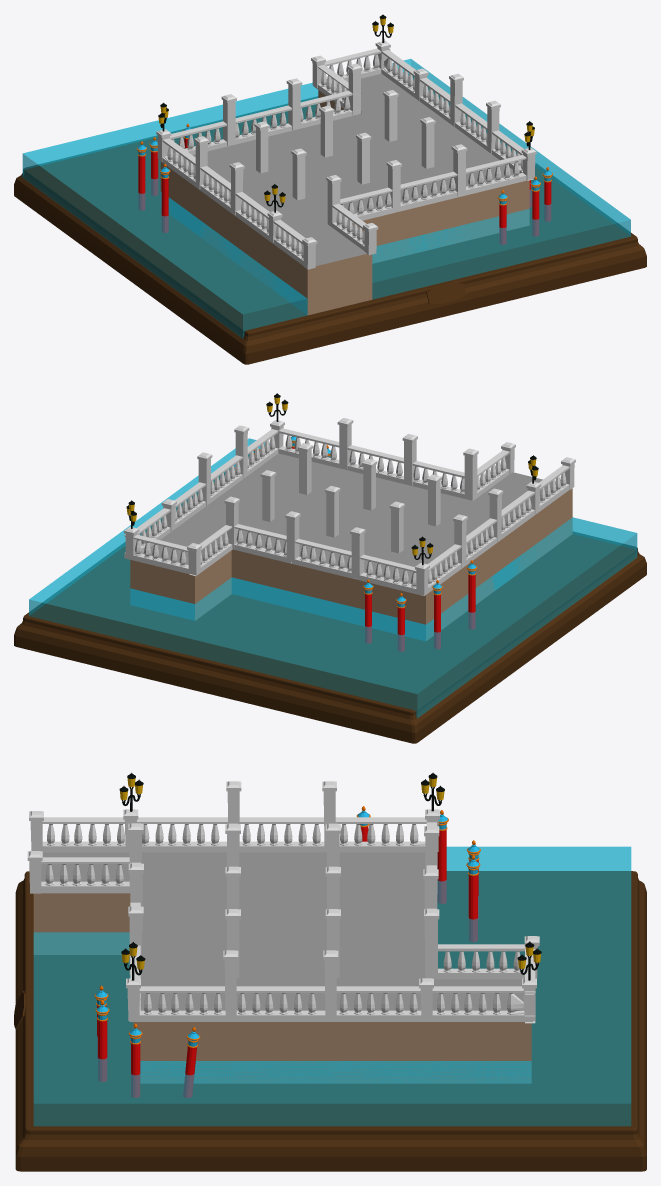
The model's file is lvl3.FBX.
The picture shows the model from 3 angles, top to bottom: view 1: azimuth 30°, elevation 25°; view 2: azimuth 150°, elevation 25°; view 3: azimuth 270°, elevation 25°; orthographic projection. The views are drawn at different scales.
Visible parts, largest first — view 1: Object116; view 2: Object116; view 3: Object116.
Boxes of the visible parts, <box> form: Object116: <box>14,14,646,364</box>; Object116: <box>14,393,646,743</box>; Object116: <box>14,772,646,1171</box>.
Bounding box in the file's own units: 349 × 110 × 350.
